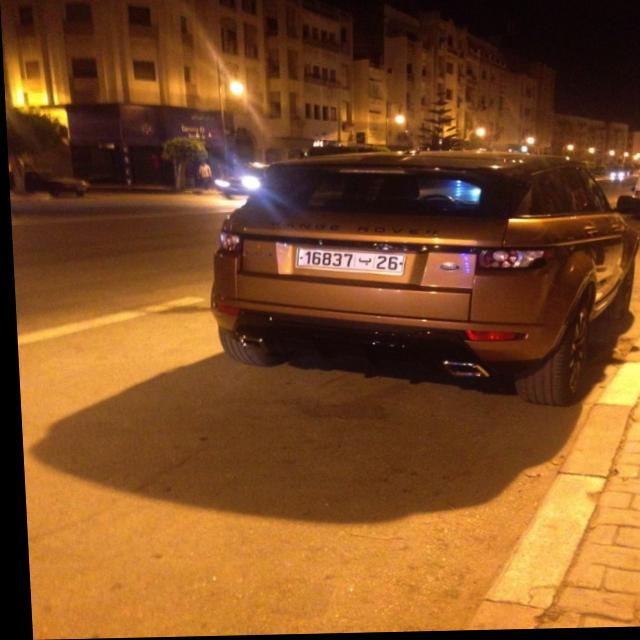License-Plate: (293, 250, 402, 277)
